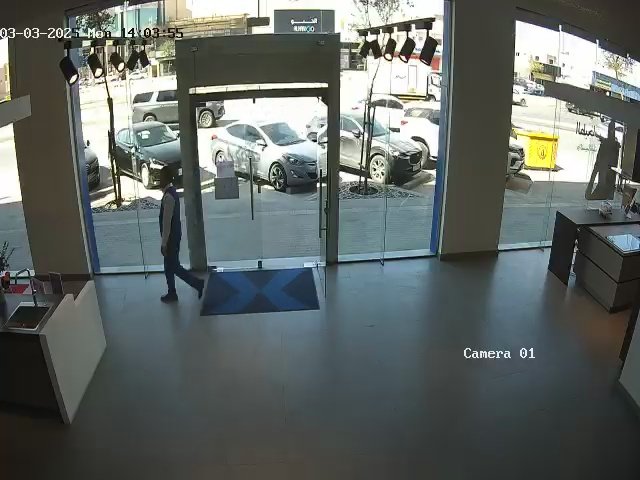employee: (155, 163, 205, 303)
